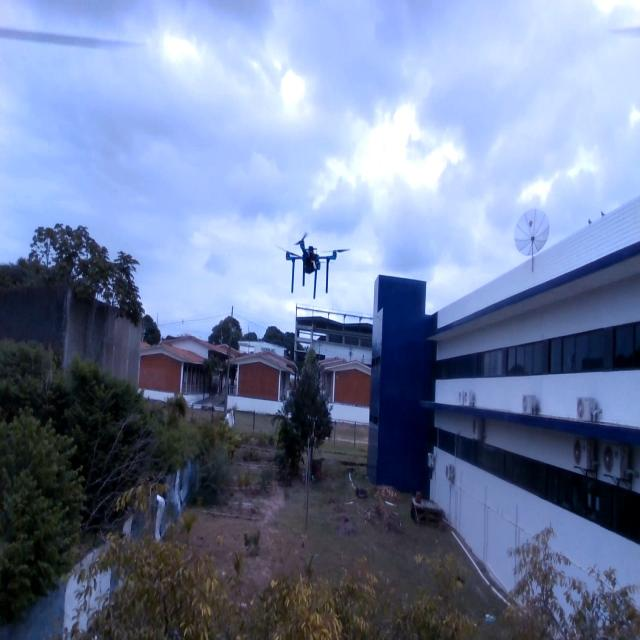-uav-: (276, 225, 352, 307)
